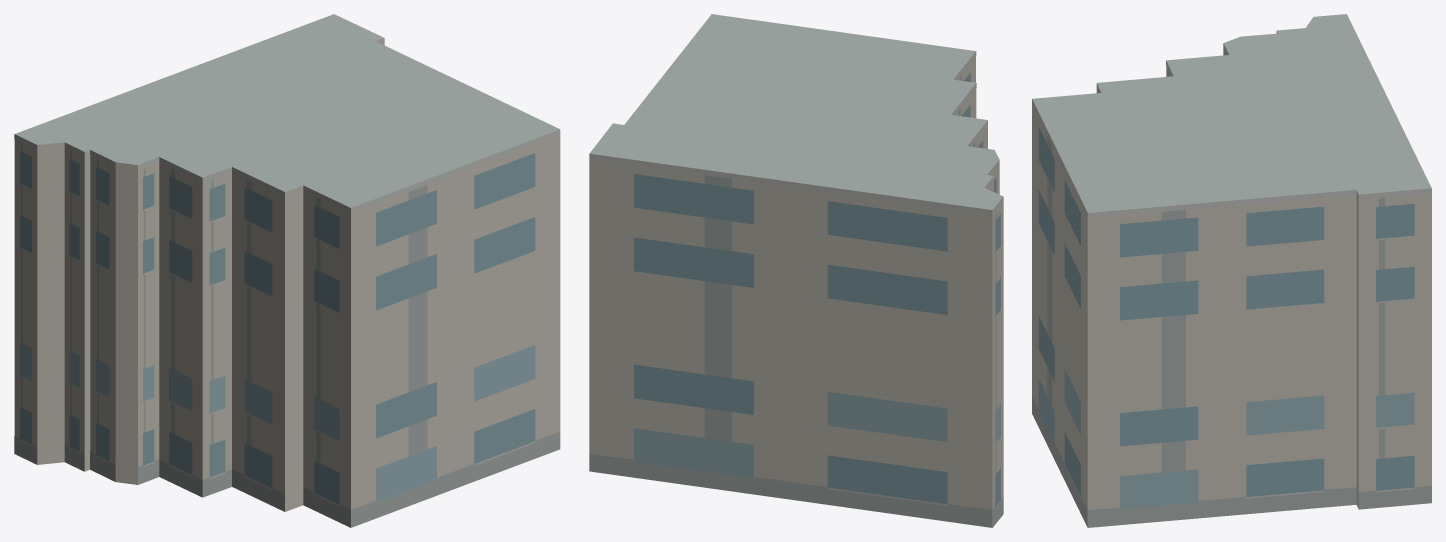
File: survey-upis-32803197.glb
3 views of the same model, side by side, from view 1: azimuth 30°, elevation 25°; view 2: azimuth 150°, elevation 25°; view 3: azimuth 270°, elevation 25° (orthographic).
Parts seen in each view (by area): view 1: survey-upis-32803197.tmp; view 2: survey-upis-32803197.tmp; view 3: survey-upis-32803197.tmp.
Part boxes in pixels (x1,y1,x2,y2): survey-upis-32803197.tmp: [14, 14, 560, 527]; survey-upis-32803197.tmp: [589, 14, 1003, 527]; survey-upis-32803197.tmp: [1032, 14, 1431, 527].
Size of the model in its own units: 19.66 by 14.5 by 16.69.
